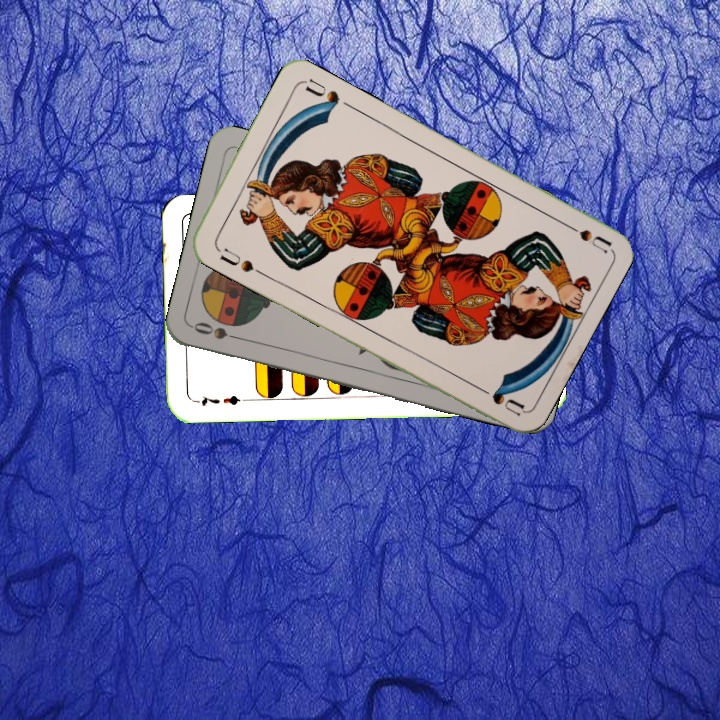E7: (191, 391, 250, 408)
SO: (189, 317, 248, 344)
SU: (556, 217, 613, 255), (216, 243, 266, 278)
